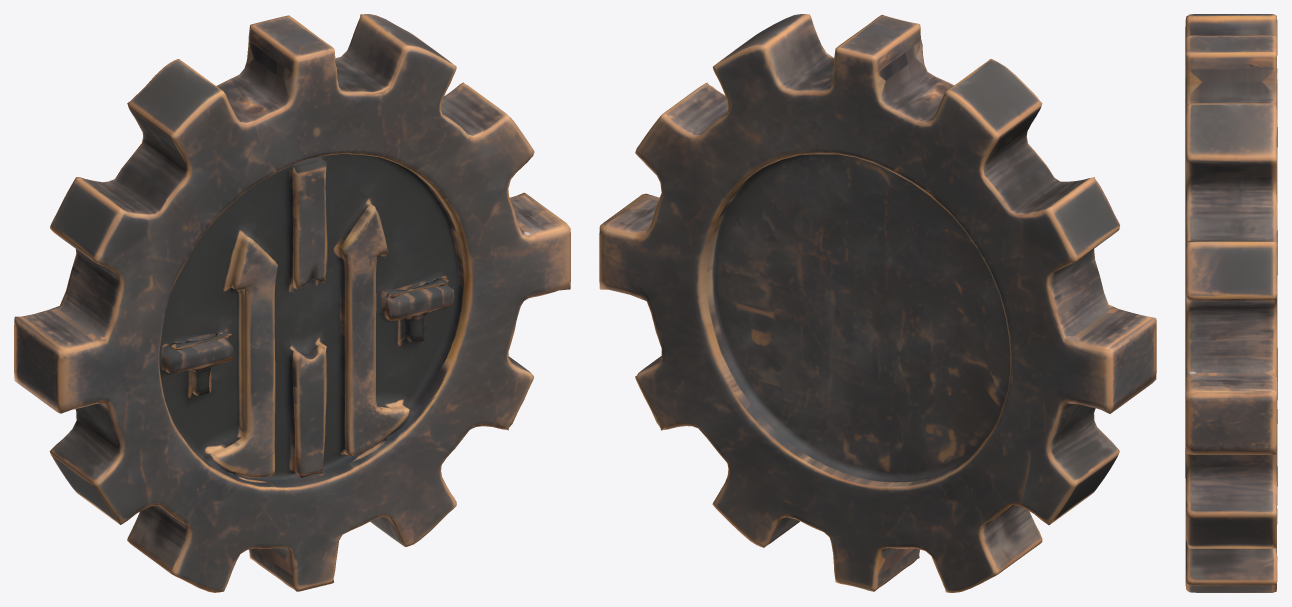
File: gear_with_mechanical_emblem.glb
The picture shows the model from 3 angles, left to right: view 1: azimuth 30°, elevation 25°; view 2: azimuth 150°, elevation 25°; view 3: azimuth 270°, elevation 25°; orthographic projection. The views are drawn at different scales.
Visible parts, largest first — view 1: Object_2; view 2: Object_2; view 3: Object_2.
Boxes of the visible parts, bbox=[...] form: Object_2: bbox=[14, 14, 570, 592]; Object_2: bbox=[599, 14, 1156, 592]; Object_2: bbox=[1185, 14, 1277, 592].
Size of the model in its own units: 1.9 by 1.89 by 0.3059.
1 material, 1 textured.
